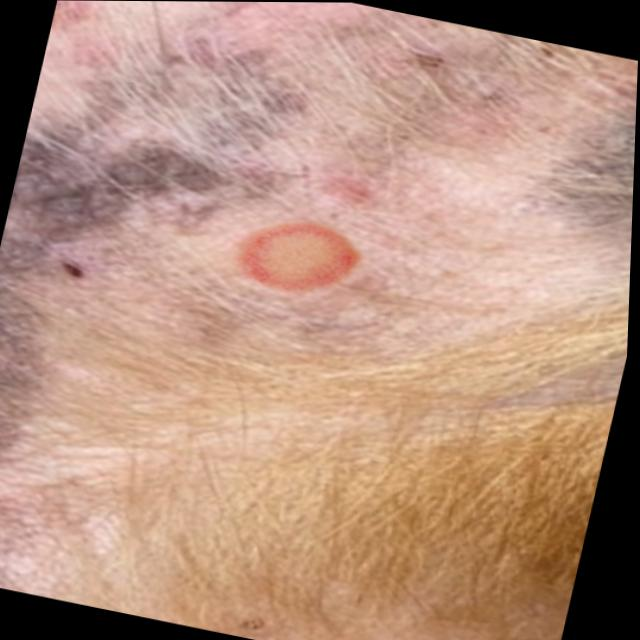ringworm: (203, 184, 409, 334)
